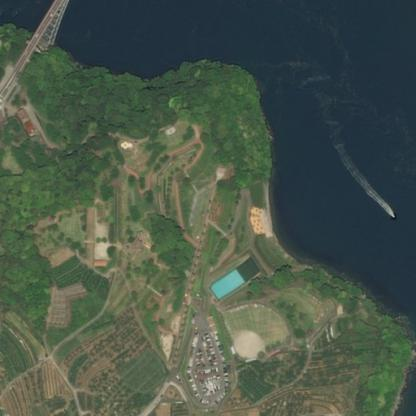ship: (374, 213, 377, 217)
